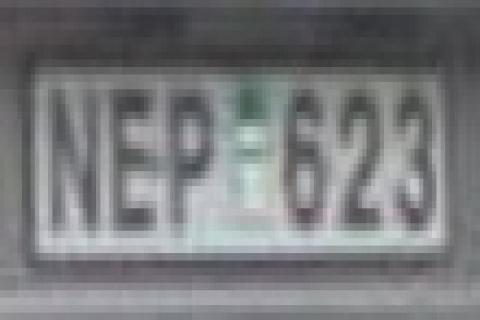LicensePlate: (16, 38, 467, 286)
